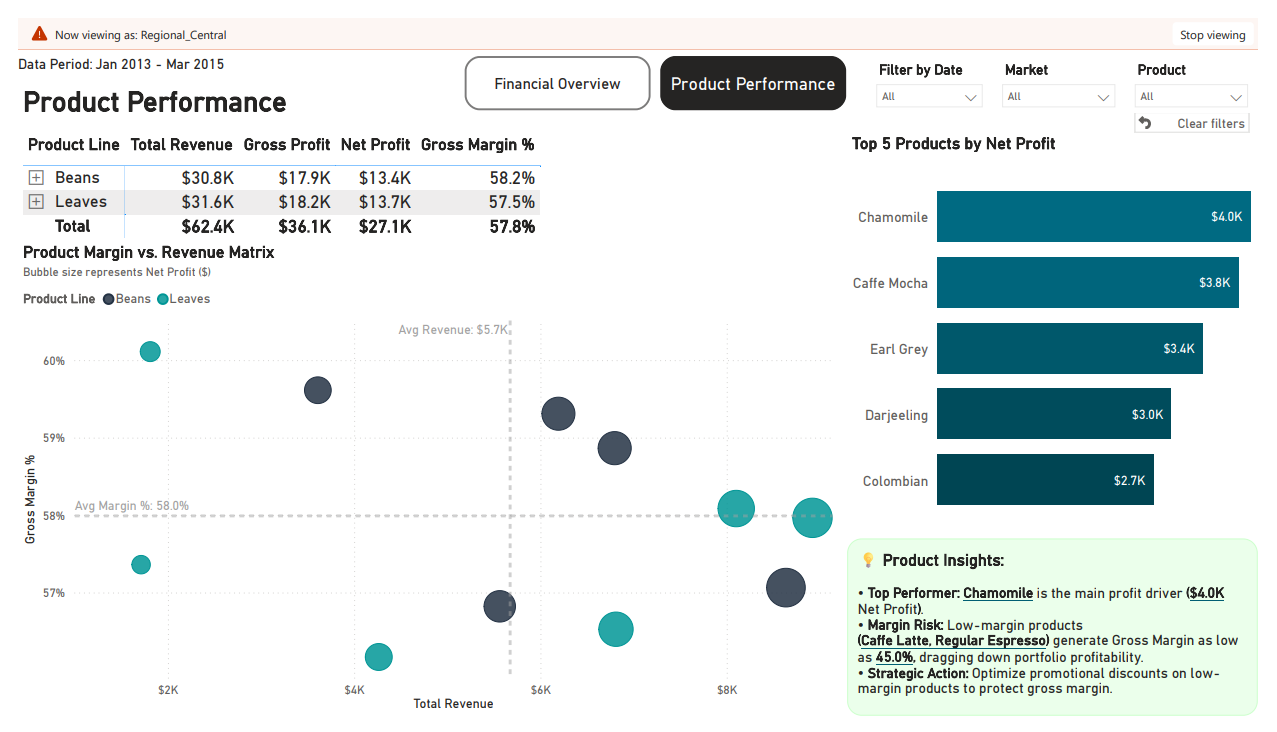

What the dashboard file says about the page in this screenshot:
{"tool":"powerbi","page":{"name":"Product Performance","canvas":[1280,720],"ordinal":1},"visuals":[{"type":"pivotTable","fields":{"Values":["_Measures.Total Revenue","_Measures.Gross Profit","_Measures.Net Profit","_Measures.Gross Margin %"],"Rows":["Dim_Product.Product_line","Dim_Product.Product_type"]},"box":[0,78.6,547.1,117.1],"z":0},{"type":"scatterChart","title":"Product Margin vs. Revenue Matrix","fields":{"Category":["Coffee_Chain_Sales.Product"],"X":["_Measures.Total Revenue"],"Y":["_Measures.Gross Margin %"],"Series":["Dim_Product.Product_line"],"Size":["_Measures.Net Profit"]},"box":[0,195,856.7,525],"z":1000},{"type":"barChart","title":"Top 5 Products by Net Profit","fields":{"Category":["Coffee_Chain_Sales.Product"],"Y":["_Measures.Net Profit"]},"box":[855,78.3,425,458.3],"z":2000},{"type":"textbox","box":[855.7,537.1,424.3,182.9],"z":3000},{"type":"textbox","box":[0,22.9,425.4,43.9],"z":4000},{"type":"actionButton","box":[1153.1,56.9,117.7,21.5],"z":5000},{"type":"slicer","fields":{"Values":["Calendar.Year","Calendar.Month"]},"box":[875.7,0,130,56.9],"z":6000},{"type":"slicer","fields":{"Values":["Dim_Geography.Market"]},"box":[1005.7,0,137.1,57.1],"z":7000},{"type":"pageNavigator","box":[448.3,0,395,56.7],"z":8000},{"type":"shape","box":[0,0,223.6,22.7],"z":9000},{"type":"slicer","fields":{"Values":["Fact_Sales.Product"]},"box":[1143,0,137.1,57.1],"z":10000}]}

Visuals, with their boxes in screenshot pixels (x1, y1, x2, y2), scaled from the page's 1280x720 canvas onto the 1277x732 screenshot:
pivotTable - _Measures.Total Revenue x _Measures.Gross Profit: [0,80,546,199]
"Product Margin vs. Revenue Matrix" scatterChart: [0,198,855,731]
"Top 5 Products by Net Profit" barChart: [853,80,1276,546]
textbox: [854,546,1276,731]
textbox: [0,23,424,68]
actionButton: [1150,58,1268,80]
slicer - Calendar.Year x Calendar.Month: [874,0,1003,58]
slicer - Dim_Geography.Market: [1003,0,1140,58]
pageNavigator: [447,0,841,58]
shape: [0,0,223,23]
slicer - Fact_Sales.Product: [1140,0,1276,58]
